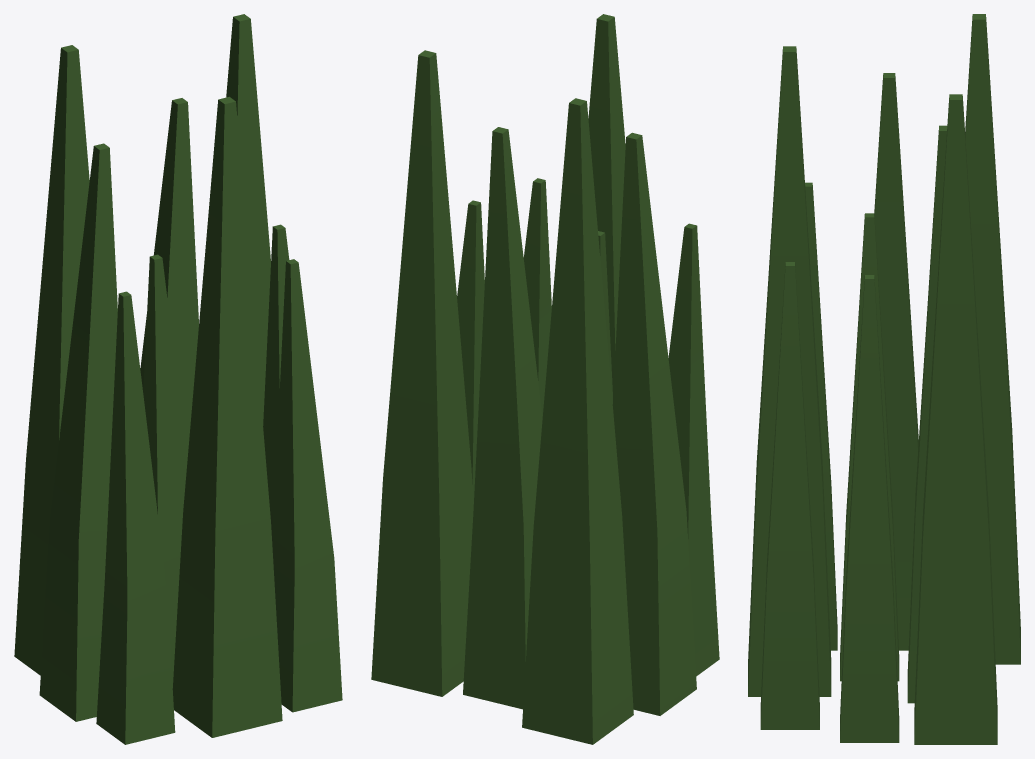
The model's file is grashalme.fbx.
3 renders of one model, left to right at view 1: azimuth 30°, elevation 25°; view 2: azimuth 150°, elevation 25°; view 3: azimuth 270°, elevation 25°, orthographic. The views are drawn at different scales.
Visible parts, largest first — view 1: pCube1; view 2: pCube1; view 3: pCube1.
Boxes of the visible parts, <box> form: pCube1: <box>14,14,342,744</box>; pCube1: <box>371,14,719,744</box>; pCube1: <box>748,14,1020,744</box>.
Size of the model in its own units: 21.97 by 51.21 by 20.1.
